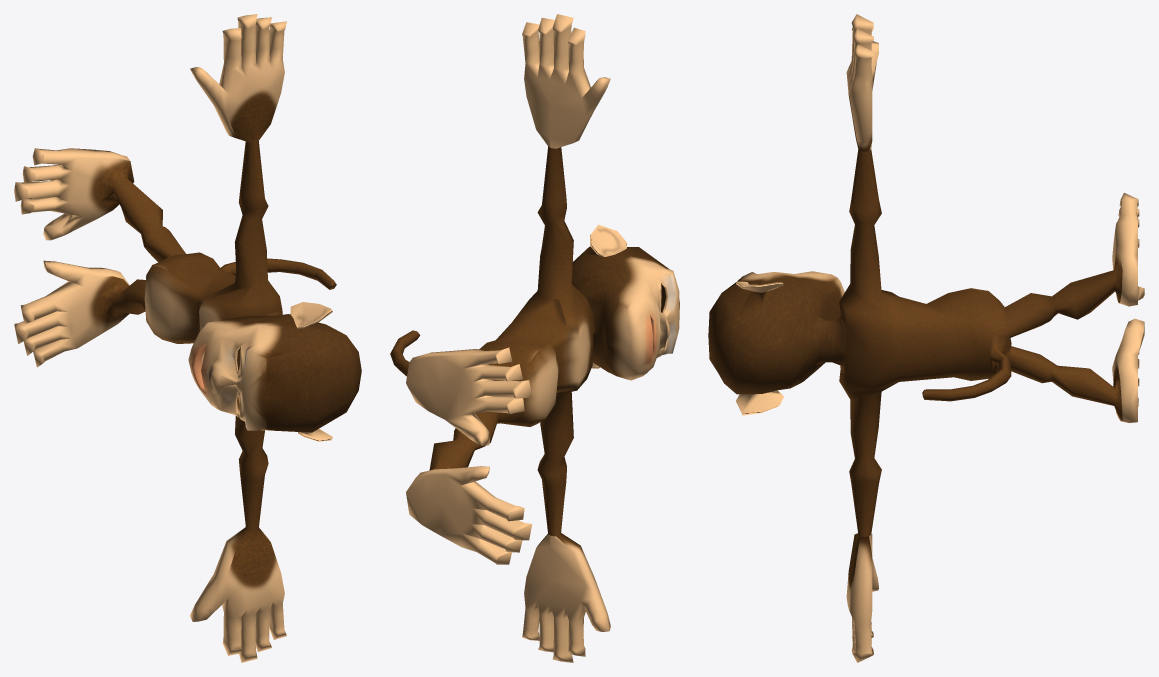
File: Monkey.fbx
The picture shows the model from 3 angles, left to right: view 1: azimuth 30°, elevation 25°; view 2: azimuth 150°, elevation 25°; view 3: azimuth 270°, elevation 25°; orthographic projection.
Visible parts, largest first — view 1: mono; view 2: mono; view 3: mono.
Boxes of the visible parts, <box> form: mono: <box>14,14,361,662</box>; mono: <box>390,14,679,662</box>; mono: <box>708,14,1144,662</box>.
Bounding box in the file's own units: 73.69 × 204 × 126.
1 material, 1 textured.
